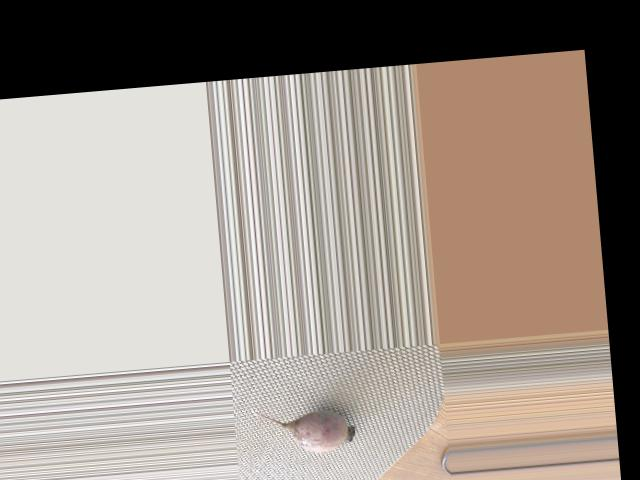beet: (251, 398, 357, 457)
